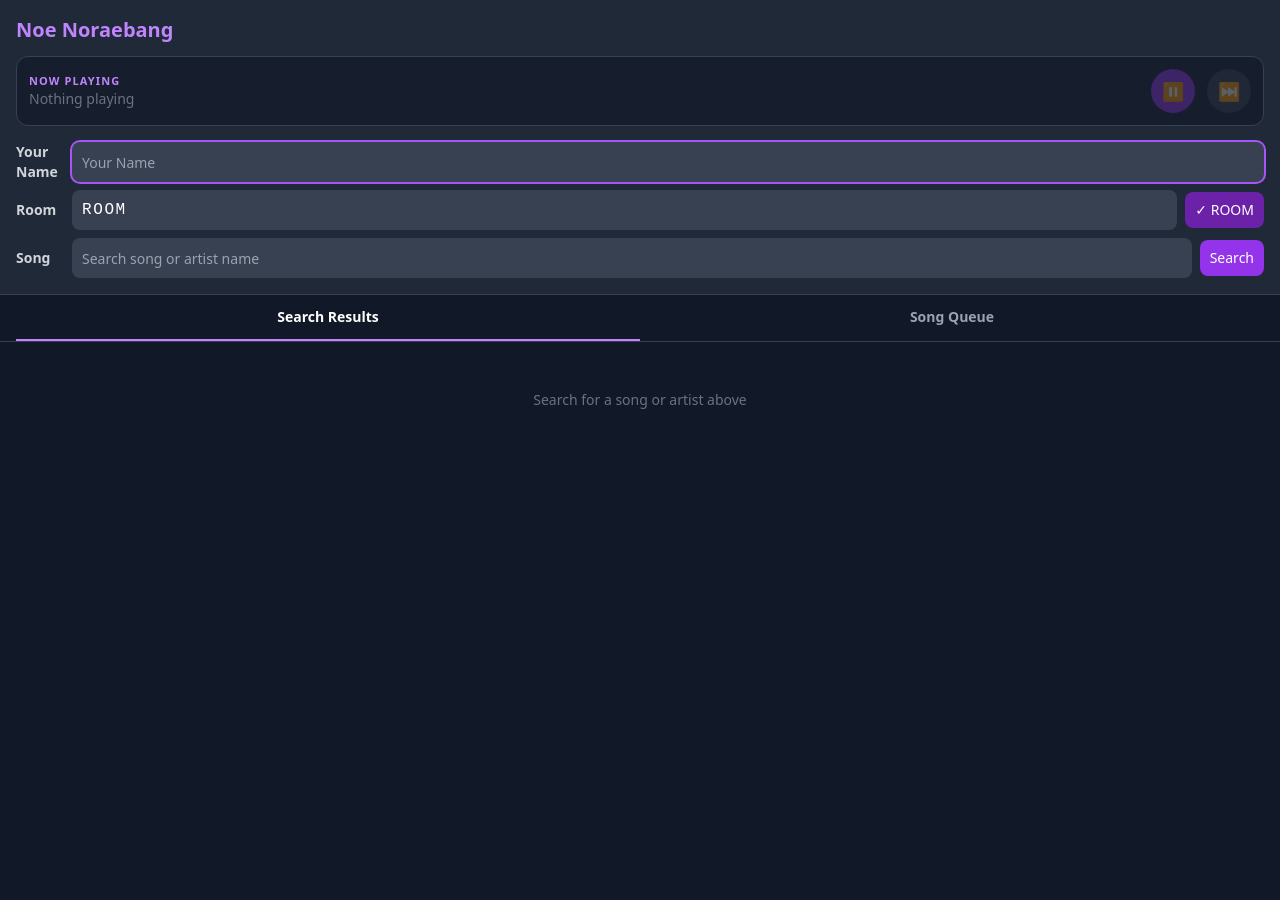
it: MobileView › remote for the TV › Play on a queued song tells the TV to play it now
Click the tab "Song Queue": (952, 318) left=640, top=295, right=1264, bottom=341
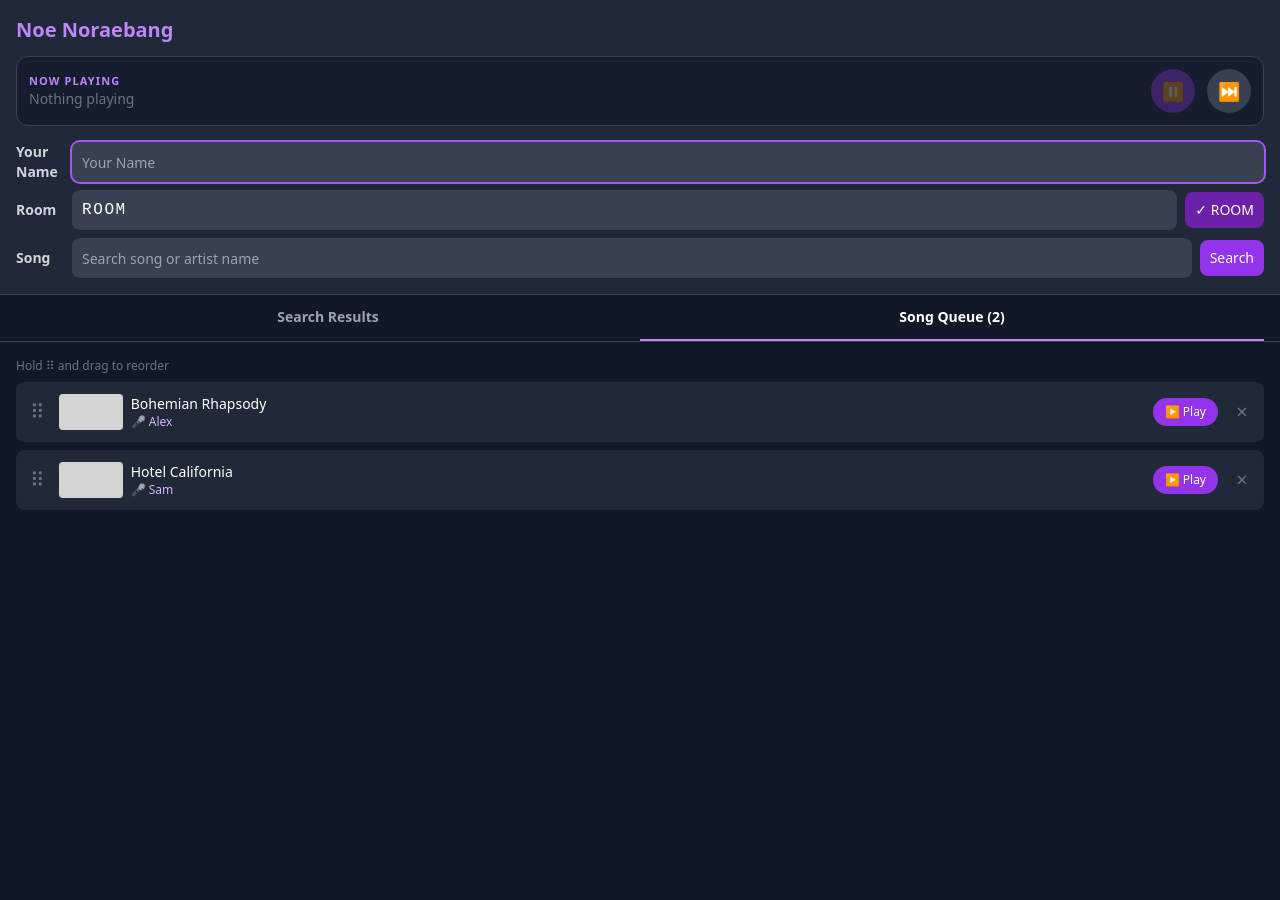
Click the button with aria-label "Play Hotel California now": (1185, 480) left=1153, top=466, right=1218, bottom=494
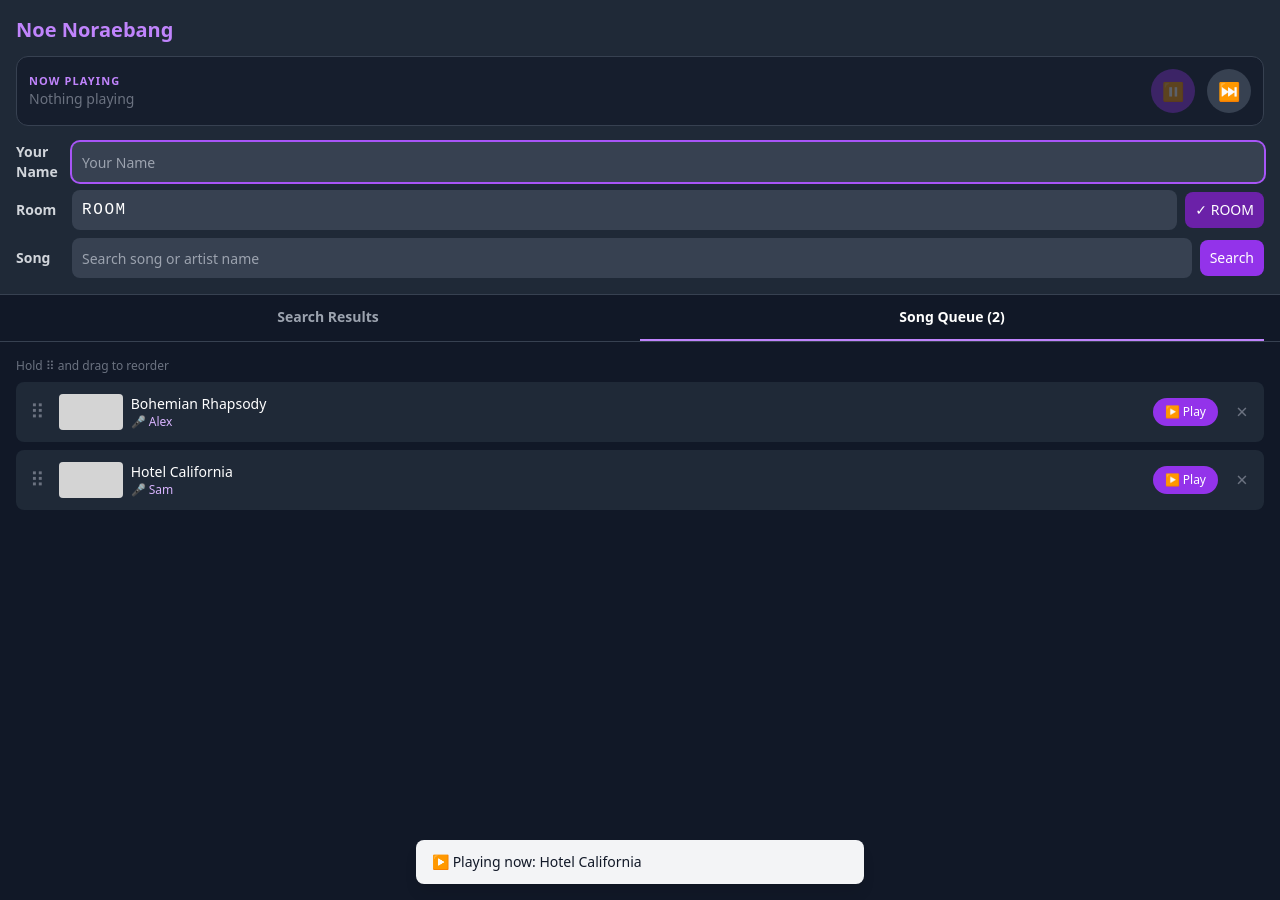
Now the message with test id "toast" shows "Playing now: Hotel California", box left=432, top=852, right=642, bottom=871
